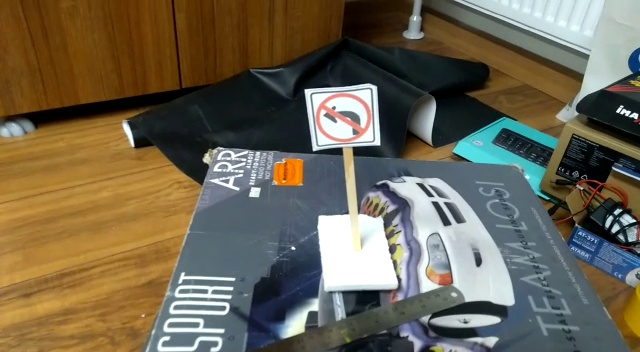sola_donulmez: (312, 93, 374, 141)
